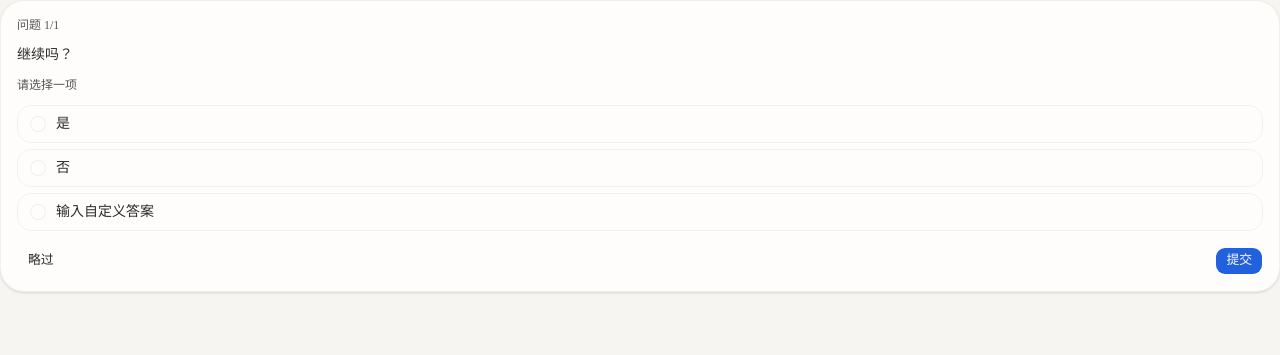
Test: QuestionDock › custom answer row is selectable across its full width, not just the mark
The width and height of the screenshot is (1280, 355).
The whole row (label text included) is the radio control — clicking it selects custom.
Click the radio button labelled "输入自定义答案".
click(105, 212)  # box [18, 194, 1262, 230]
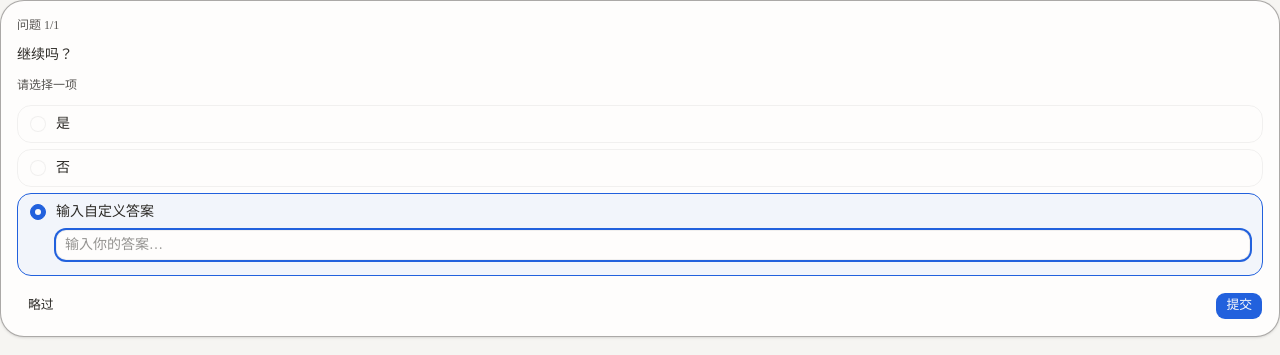
Expected: the text box with placeholder "输入你的答案…" is shown, [56, 230, 1250, 260]
